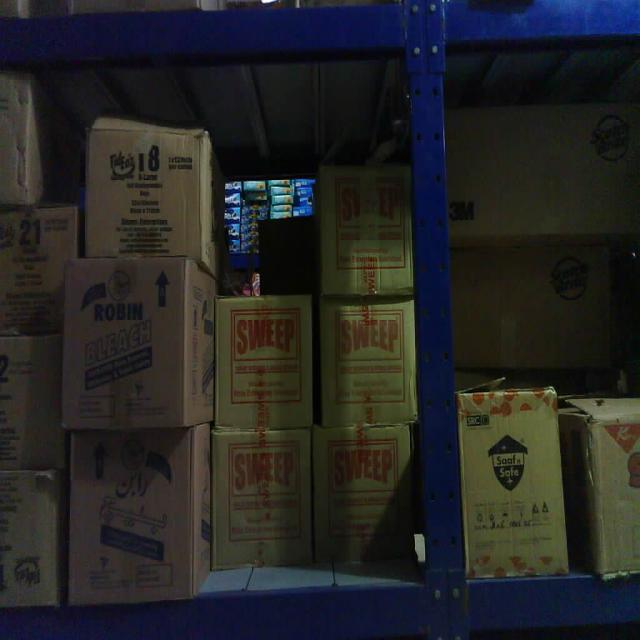box: (64, 421, 197, 612), (61, 257, 193, 433), (460, 386, 562, 584), (80, 121, 212, 263), (214, 292, 318, 434), (213, 429, 315, 571), (316, 427, 417, 570), (316, 160, 414, 300), (316, 298, 420, 428), (1, 202, 82, 340), (0, 464, 64, 612), (0, 340, 63, 466)
